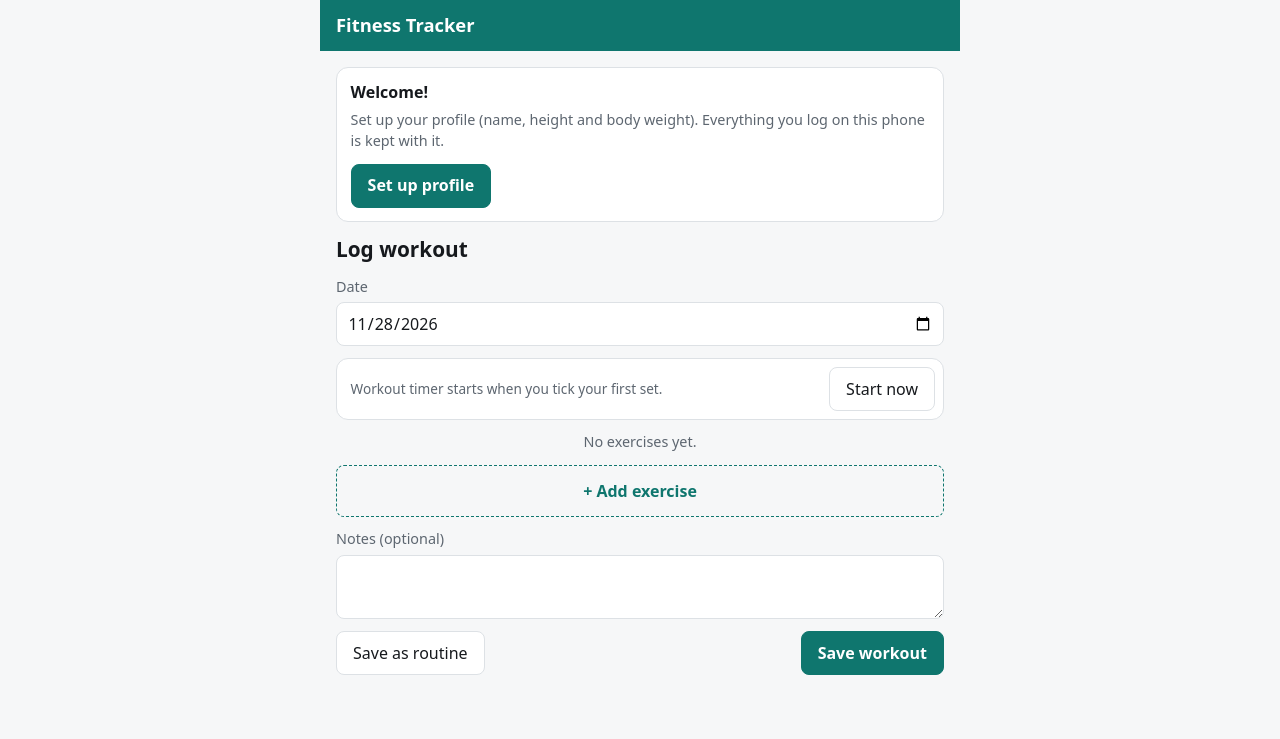
Test: App › shows validation errors instead of saving bad input
The width and height of the screenshot is (1280, 739).
Click the button "Save workout" at (872, 653), box [801,631,944,675]
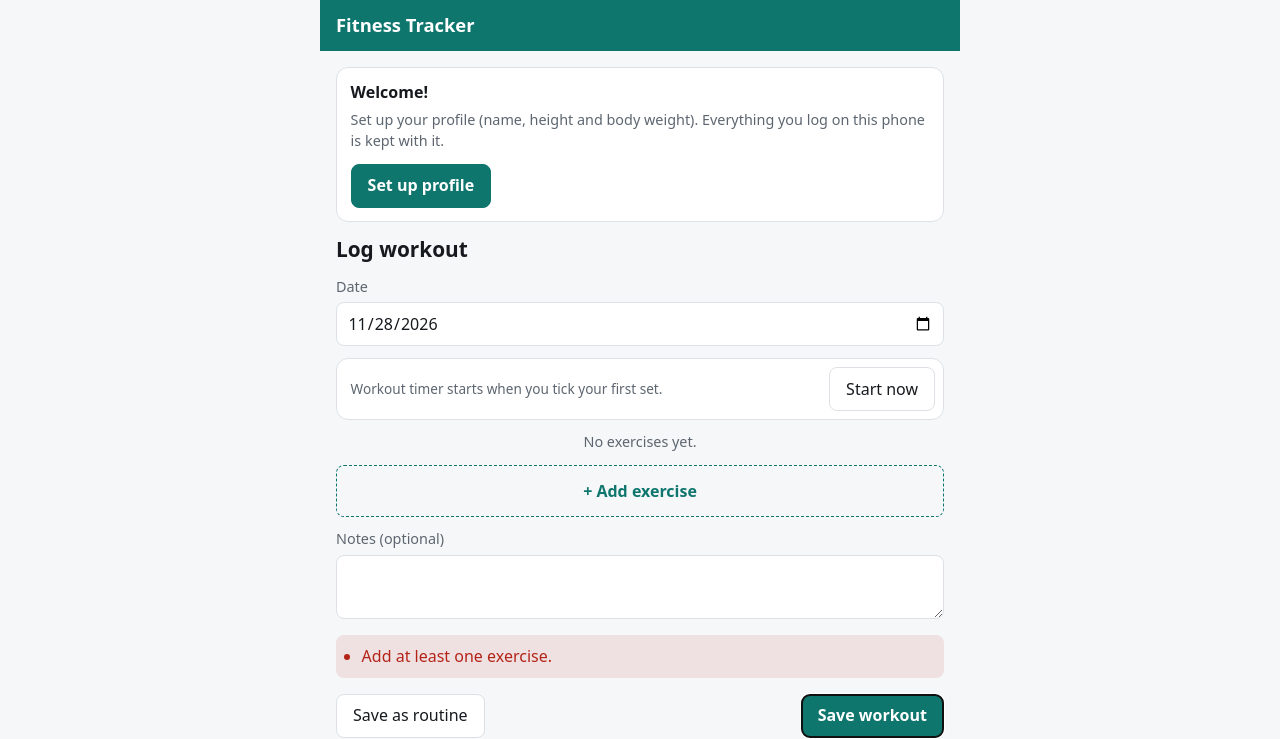
Result: the message reads "Add at least one exercise." at [362,645,552,667]
Click the button "+ Add exercise" at (640, 491), box [336,465,944,517]
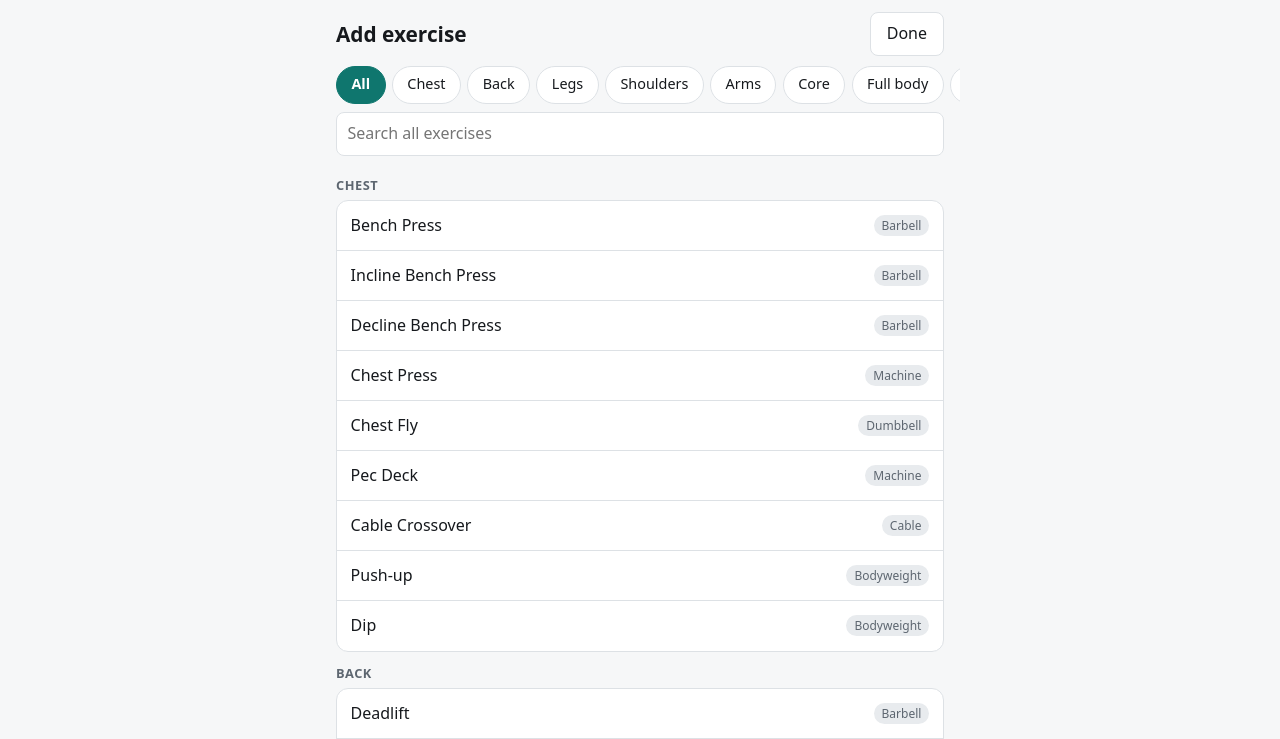
Type "Squat" into the search field named "Search exercises" at (640, 134), box [336,112,944,156]
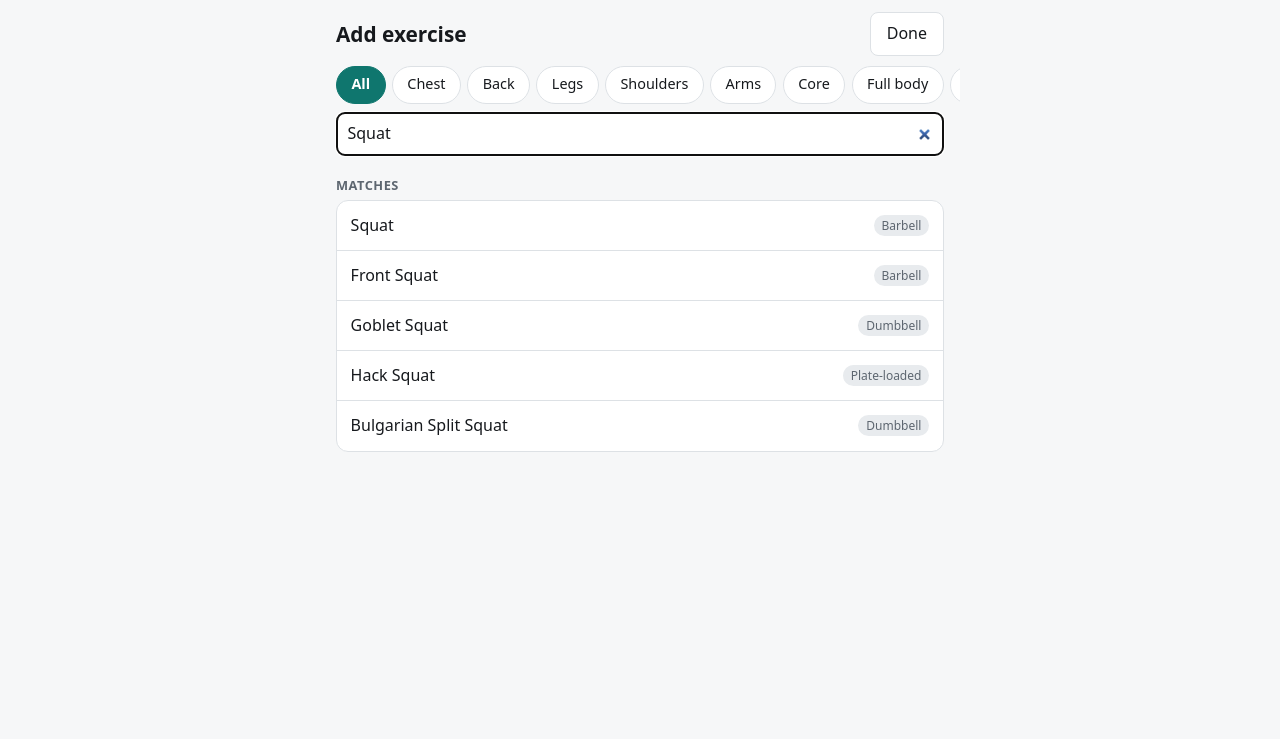
Click the button "Squat Barbell" at (372, 225), box [337,201,943,251]
(page scrolled)
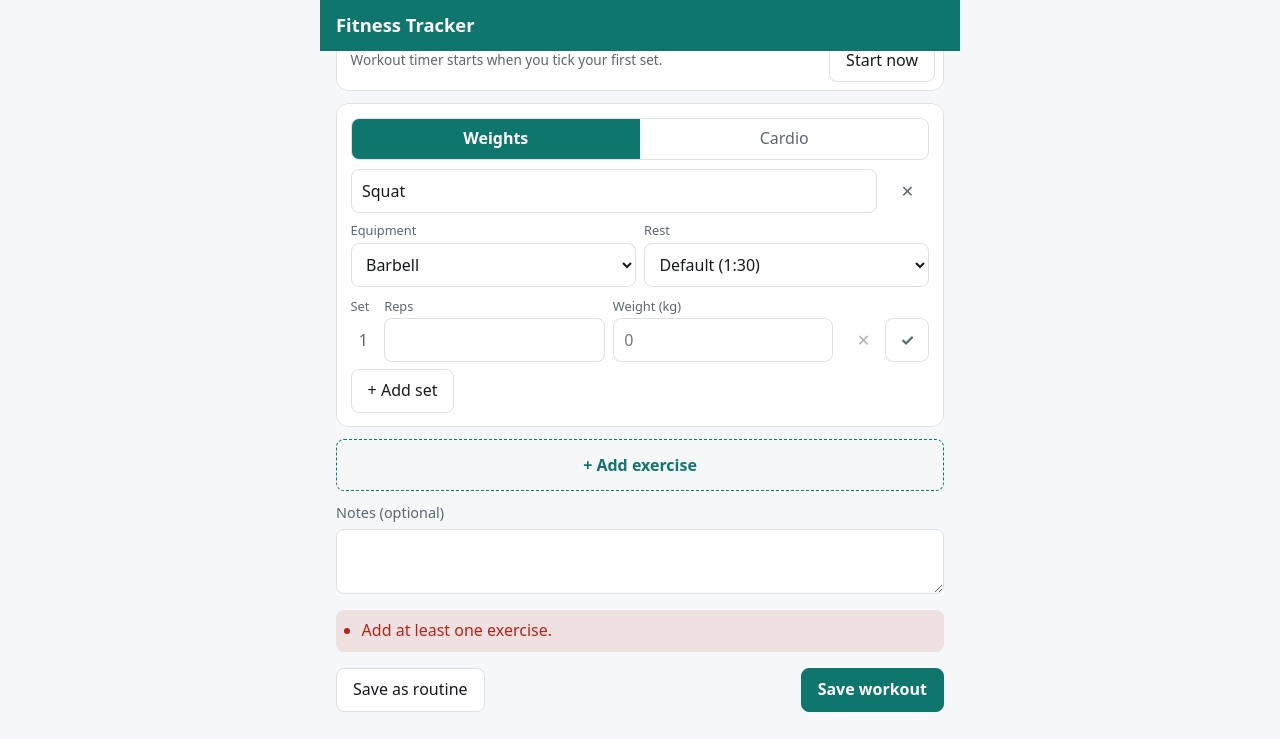
Click the button "Save workout" at (872, 690), box [801,668,944,712]
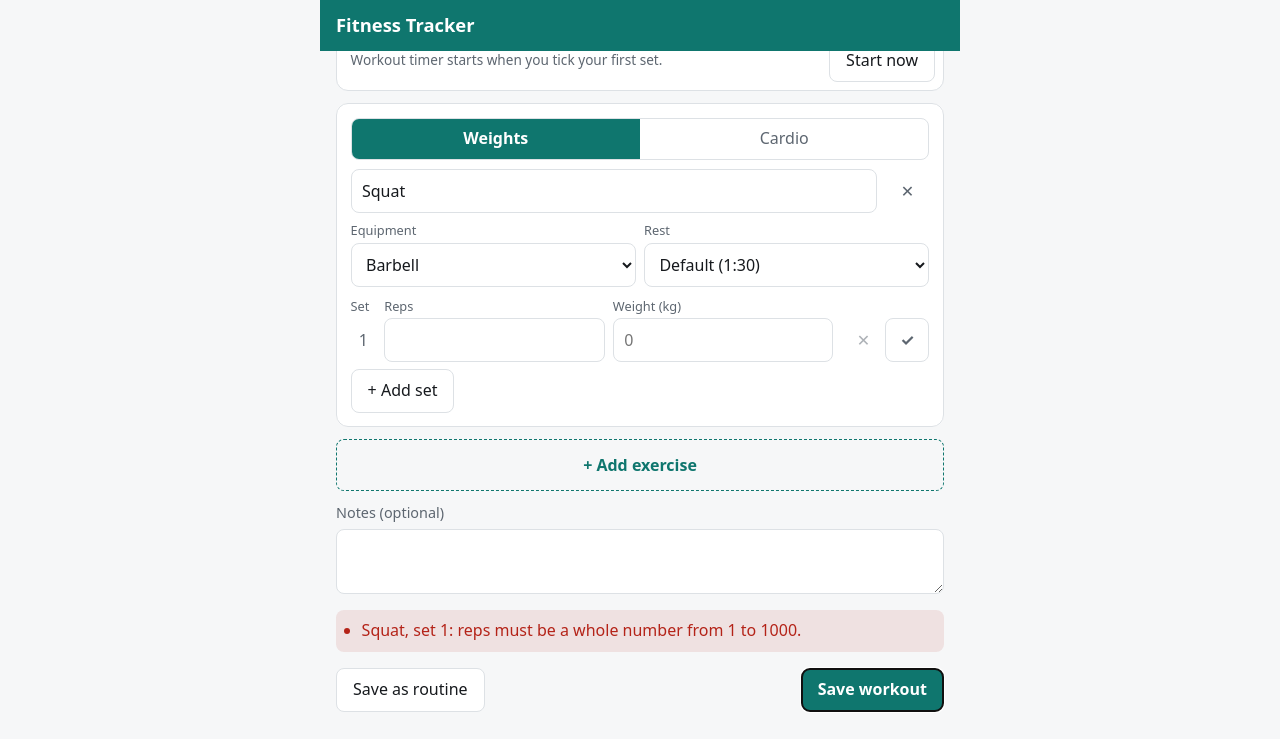
Result: the message shows "reps must be a whole number" at [362,619,801,641]
